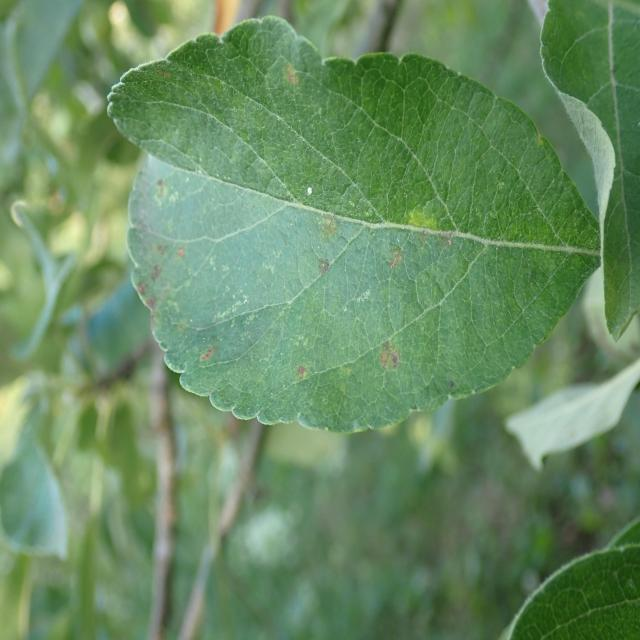scab: (124, 32, 555, 424)
